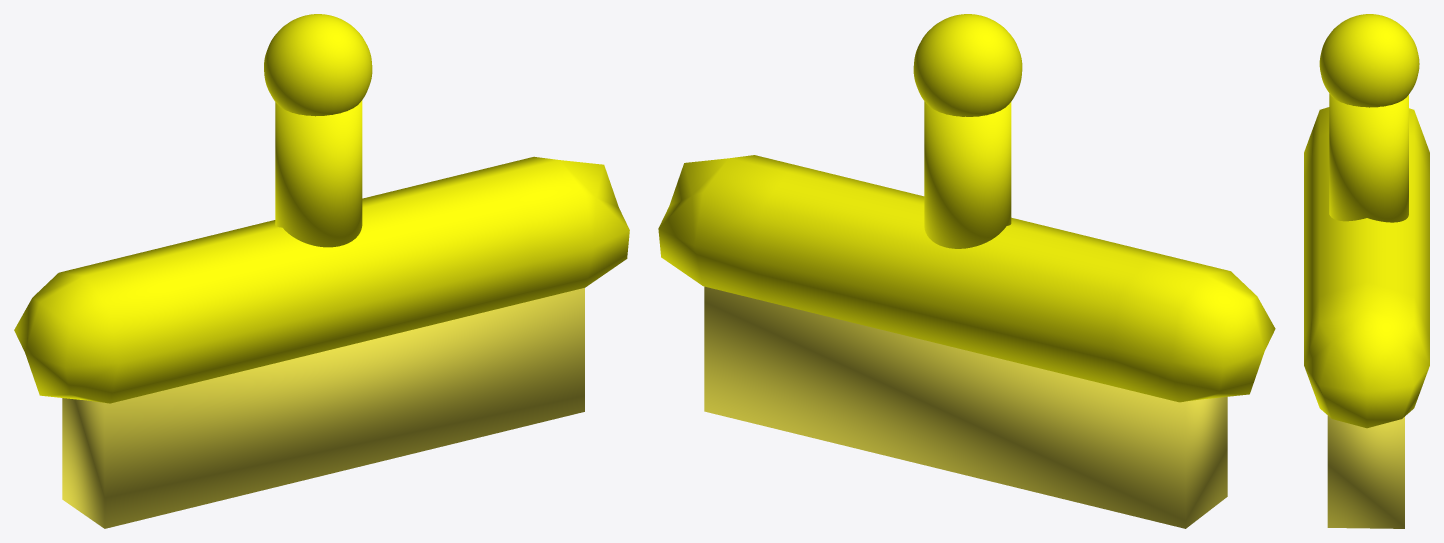
Rendered from yellowBrush.dae.
3 views of the same model, side by side, from view 1: azimuth 30°, elevation 25°; view 2: azimuth 150°, elevation 25°; view 3: azimuth 270°, elevation 25° (orthographic). The views are drawn at different scales.
Visible parts, largest first — view 1: Cube, Cube_001, Cylinder, Sphere; view 2: Cube, Cube_001, Cylinder, Sphere; view 3: Cube, Cylinder, Cube_001, Sphere.
Part boxes in pixels (x1,y1,x2,y2): Cube: (14,156,629,403); Cube_001: (62,288,584,528); Cylinder: (275,100,362,247); Sphere: (264,14,372,116); Cube: (658,155,1275,402); Cube_001: (704,286,1227,528); Cylinder: (924,101,1011,248); Sphere: (913,14,1022,116); Cube: (1304,107,1429,428); Cylinder: (1329,93,1408,222); Cube_001: (1327,415,1404,528); Sphere: (1319,14,1419,107).
Bounding box in the file's own units: 12.61 × 2.52 × 8.87.
